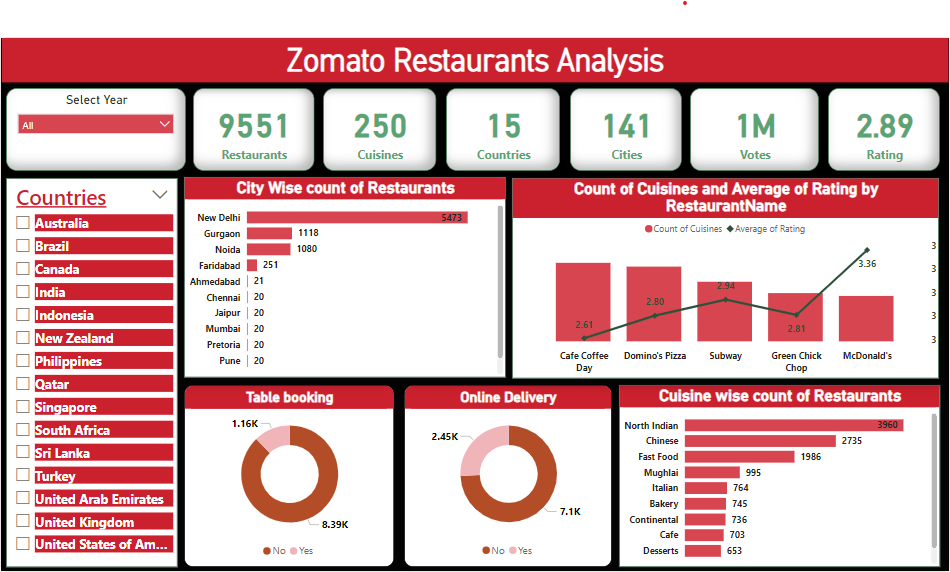

The dashboard page shown, as its layout file describes it:
{"tool":"powerbi","page":{"name":"Dashboard","canvas":[1280,720],"ordinal":0},"visuals":[{"type":"slicer","fields":{"Values":["Sheet2.country name"]},"box":[6.8,189.2,232.4,525.7],"z":0},{"type":"card","fields":{"Values":["CountNonNull(Sheet2.countryID)"]},"box":[601.4,67.6,154.1,112.2],"z":2000},{"type":"card","fields":{"Values":["Count(Sheet1.Cuisines)"]},"box":[435.1,67.6,152.7,112.2],"z":3000},{"type":"card","fields":{"Values":["Count(Sheet1.RestaurantID)"]},"box":[259.5,67.6,163.5,112.2],"z":4000},{"type":"card","fields":{"Values":["Count(Sheet1.City)"]},"box":[768.9,67.6,151.4,112.2],"z":5000},{"type":"textbox","box":[1.5,0,1279.2,60.3],"z":6000},{"type":"donutChart","title":"Table booking ","fields":{"Category":["cuisines copy.Has_Table_booking"],"Y":["CountNonNull(cuisines copy.Has_Table_booking)"]},"box":[247.3,468.9,283.8,245.9],"z":7000},{"type":"donutChart","title":"Online Delivery","fields":{"Category":["cuisines copy.Has_Online_delivery"],"Y":["CountNonNull(cuisines copy.Has_Online_delivery)"]},"box":[544.1,469.1,280.9,245.6],"z":8000},{"type":"clusteredBarChart","title":"Cuisine wise count of Restaurants","fields":{"Category":["Sheet1.Column"],"Y":["CountNonNull(Sheet1.Cuisines)"]},"box":[835.3,469.1,433.8,245.6],"z":9000},{"type":"clusteredBarChart","title":"City Wise count of Restaurants","fields":{"Category":["cuisines copy.City"],"Y":["CountNonNull(cuisines copy.RestaurantID)"]},"box":[247.1,188.2,435.3,270.6],"z":10000},{"type":"lineStackedColumnComboChart","fields":{"Category":["cuisines copy.RestaurantName"],"Y":["CountNonNull(cuisines copy.Cuisines)"],"Y2":["Avg(cuisines copy.Rating)"]},"box":[691.2,188.6,577.4,270.7],"z":11000},{"type":"slicer","title":"Select Year","fields":{"Values":["cuisines copy.new datekey.Variation.Date Hierarchy.Year","cuisines copy.new datekey.Variation.Date Hierarchy.Quarter","cuisines copy.new datekey.Variation.Date Hierarchy.Month","cuisines copy.new datekey.Variation.Date Hierarchy.Day"]},"box":[6.8,67.6,243.2,112.2],"z":13000},{"type":"card","fields":{"Values":["Sum(cuisines copy.Votes)"]},"box":[931.1,67.6,174.3,112.2],"z":14000},{"type":"card","fields":{"Values":["Avg(cuisines copy.Rating)"]},"box":[1117.6,67.6,151.4,112.2],"z":15000}]}

Visuals, with their boxes on the page's 1280x720 design canvas (x1, y1, x2, y2). These are canvas units, not pixel positions in the 950x572 screenshot, which may show the page scaled, cropped or inside an application window:
slicer - Sheet2.country name: l=7, t=189, r=239, b=715
card - CountNonNull(Sheet2.countryID): l=601, t=68, r=756, b=180
card - Count(Sheet1.Cuisines): l=435, t=68, r=588, b=180
card - Count(Sheet1.RestaurantID): l=260, t=68, r=423, b=180
card - Count(Sheet1.City): l=769, t=68, r=920, b=180
textbox: l=2, t=0, r=1281, b=60
"Table booking " donutChart: l=247, t=469, r=531, b=715
"Online Delivery" donutChart: l=544, t=469, r=825, b=715
"Cuisine wise count of Restaurants" clusteredBarChart: l=835, t=469, r=1269, b=715
"City Wise count of Restaurants" clusteredBarChart: l=247, t=188, r=682, b=459
lineStackedColumnComboChart - cuisines copy.RestaurantName x CountNonNull(cuisines copy.Cuisines): l=691, t=189, r=1269, b=459
"Select Year" slicer: l=7, t=68, r=250, b=180
card - Sum(cuisines copy.Votes): l=931, t=68, r=1105, b=180
card - Avg(cuisines copy.Rating): l=1118, t=68, r=1269, b=180
